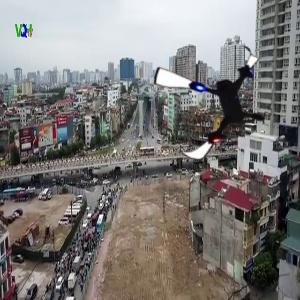drone: (147, 36, 278, 167)
